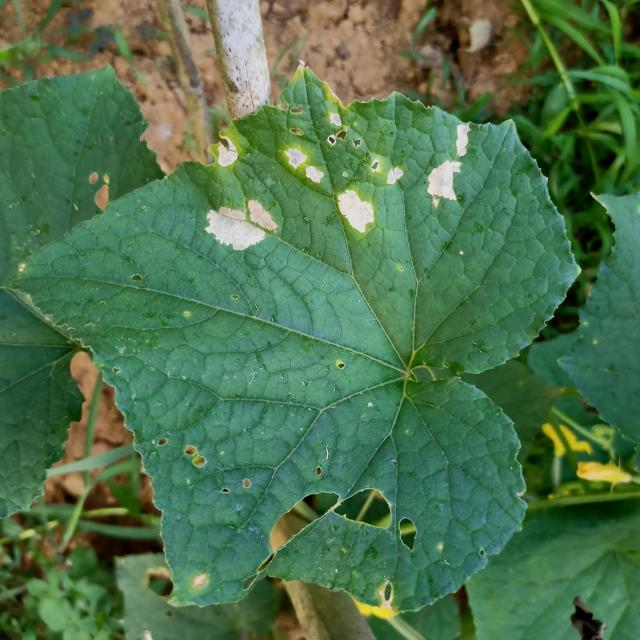disease_cucumber: (280, 109, 412, 238), (200, 192, 290, 254), (422, 121, 482, 210), (203, 127, 250, 176)
